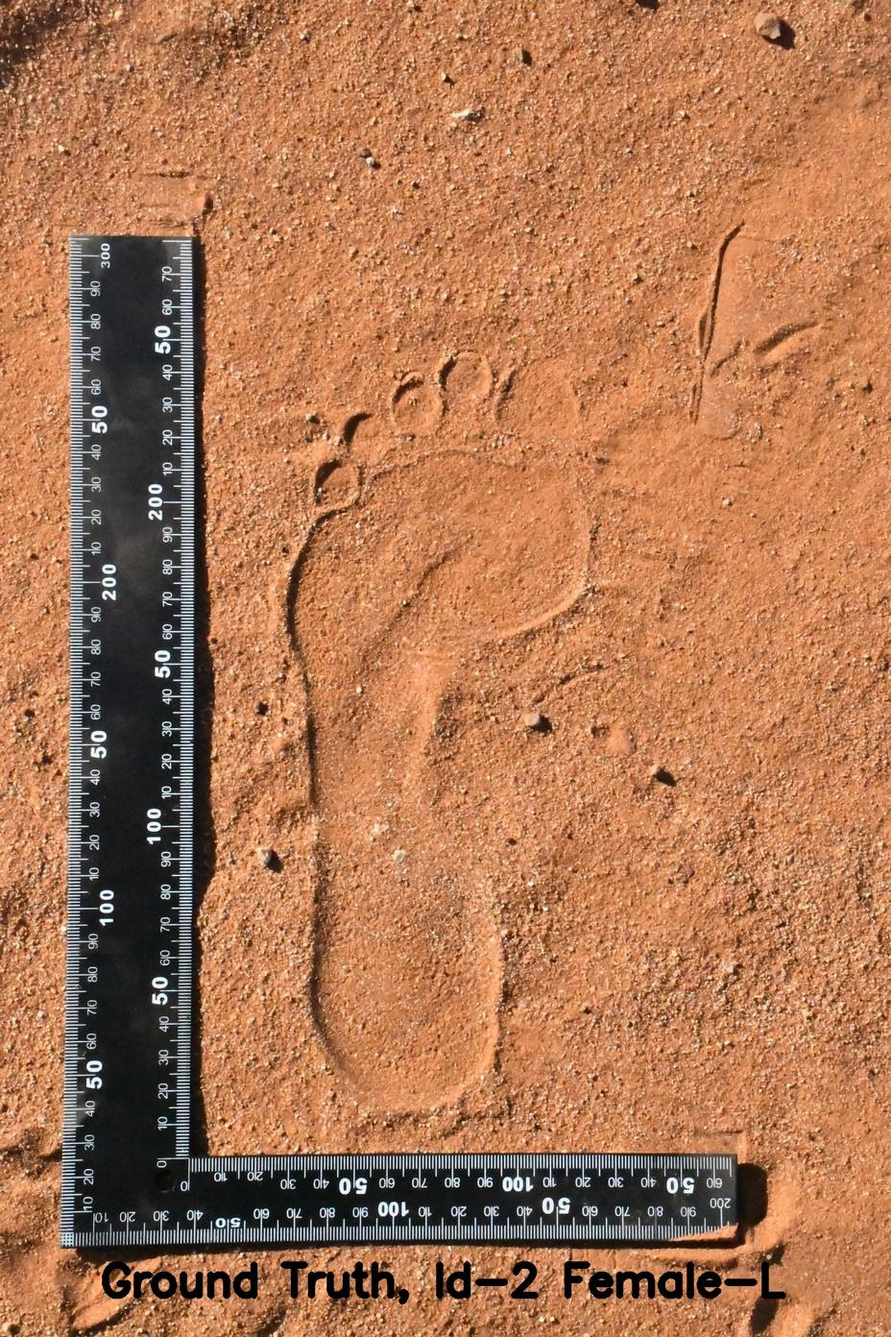human_foot_print: (196, 340, 625, 1133)
